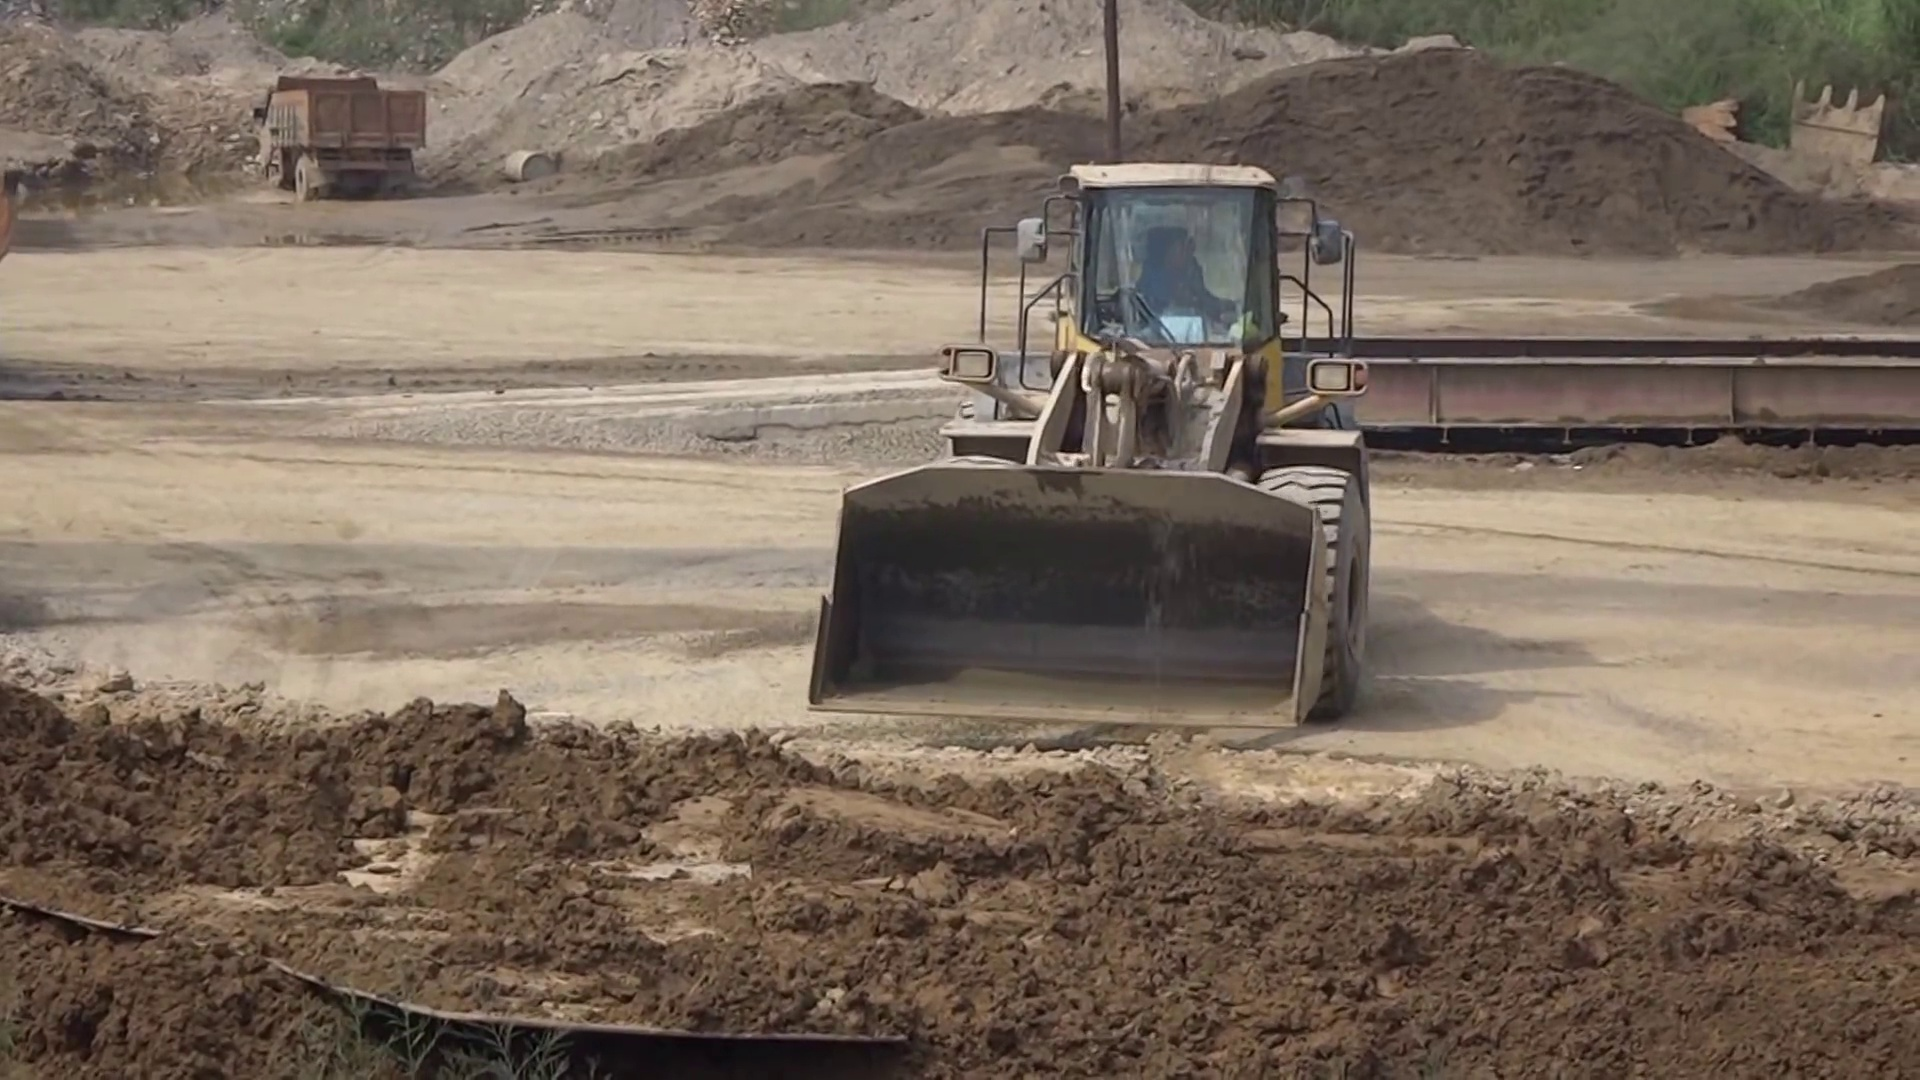truck: (247, 69, 426, 208)
wheel loader: (803, 156, 1374, 735)
